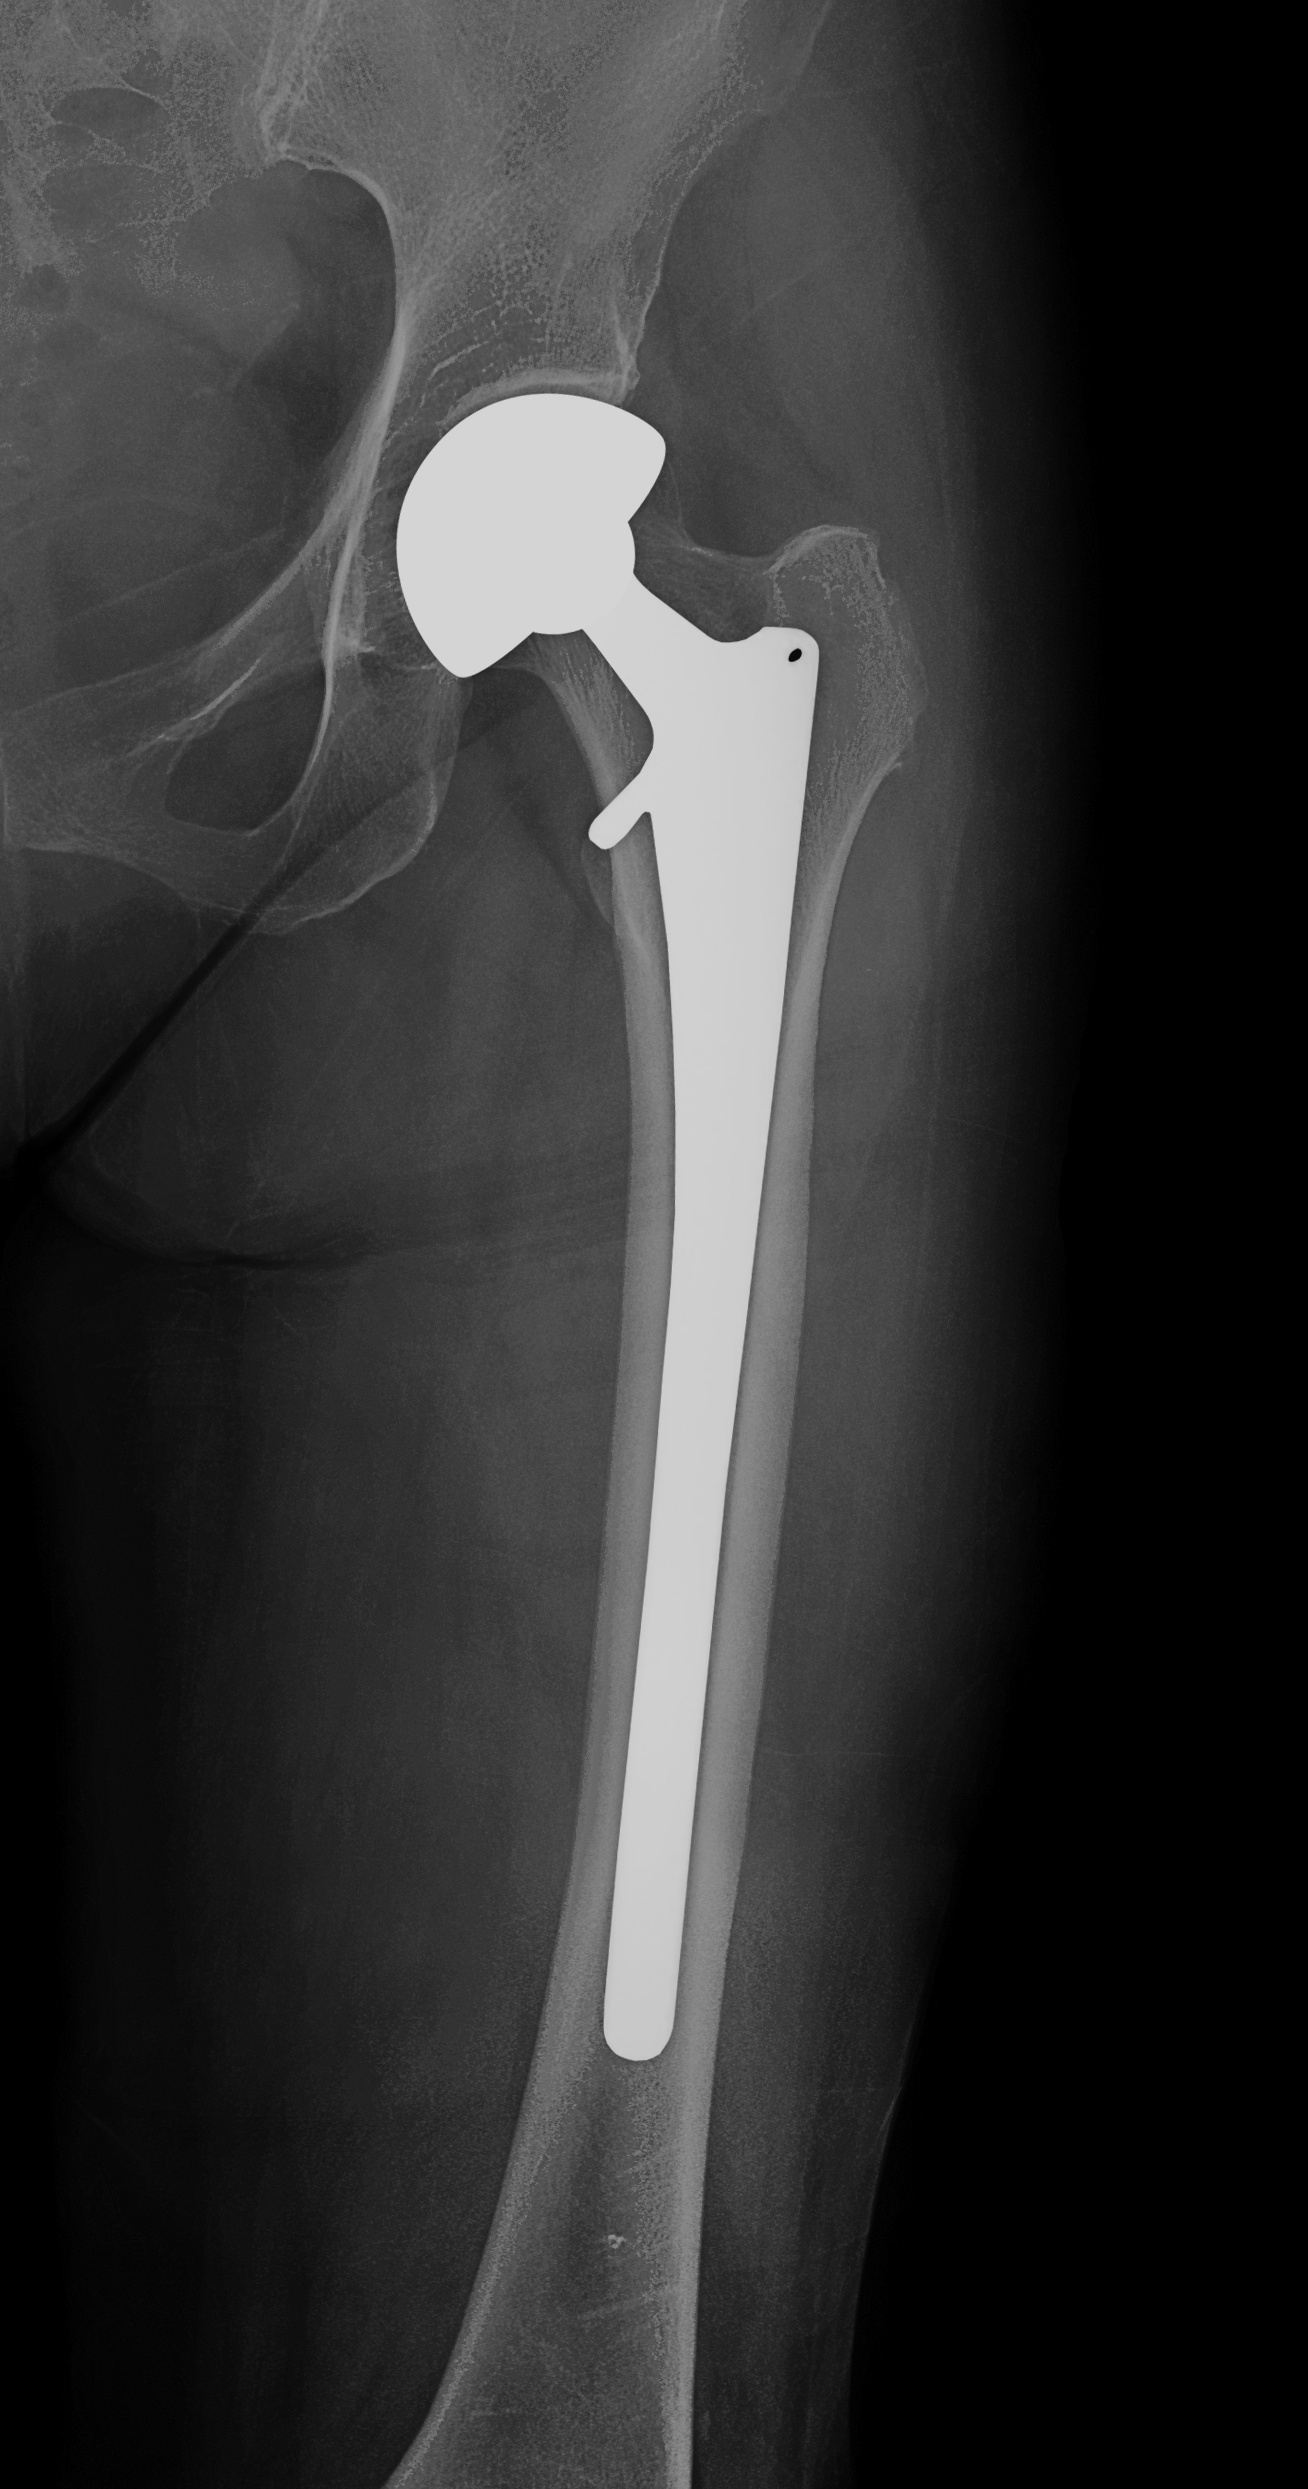Hip - Bias - Zimmer: (276, 326, 872, 2203)
